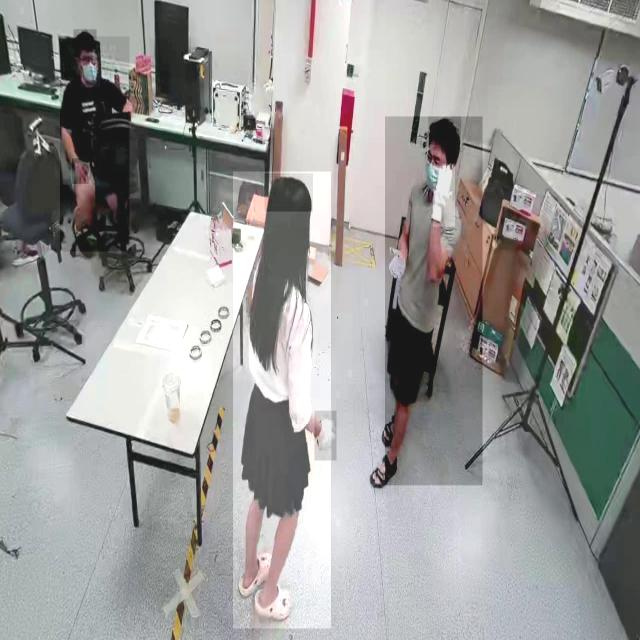face_mask: (81, 53, 101, 88), (424, 154, 442, 186)
hand_glove: (383, 242, 413, 288), (433, 164, 455, 226), (315, 411, 337, 461)
hand_noglove: (72, 158, 89, 185)
head_nohelmet: (264, 174, 314, 212), (428, 116, 462, 146), (73, 29, 97, 50)
person: (233, 172, 331, 630), (385, 116, 483, 486), (60, 36, 130, 252)
